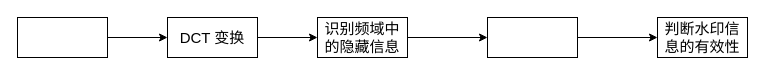
Image size: 765x75. Some labels were removed from this diagram. The shapes that lost their labels are listed below. From the top down, each one's centre as x and y in pixels, then its label:
At (62,37): "水印图像".
At (532,37): "解码产生水印串".
